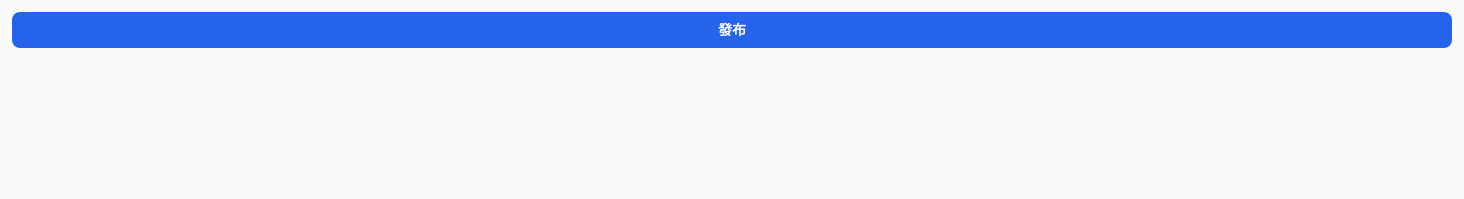
Test: PublishPanel — 一鍵發布 + 備份確認 › shows backup confirmation with sha256 after success
Click the button "發布" at (732, 30), box [12,12,1452,48]
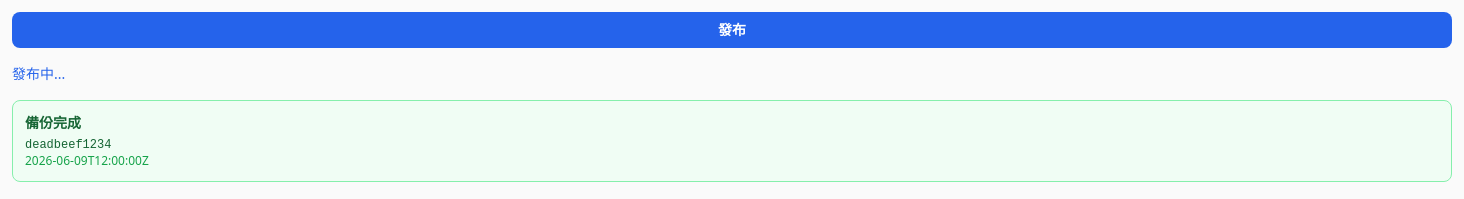
expect the text "deadbeef1234" is shown: met, box [25,138,111,152]
expect the text "備份完成" is shown: met, box [25,113,81,132]
